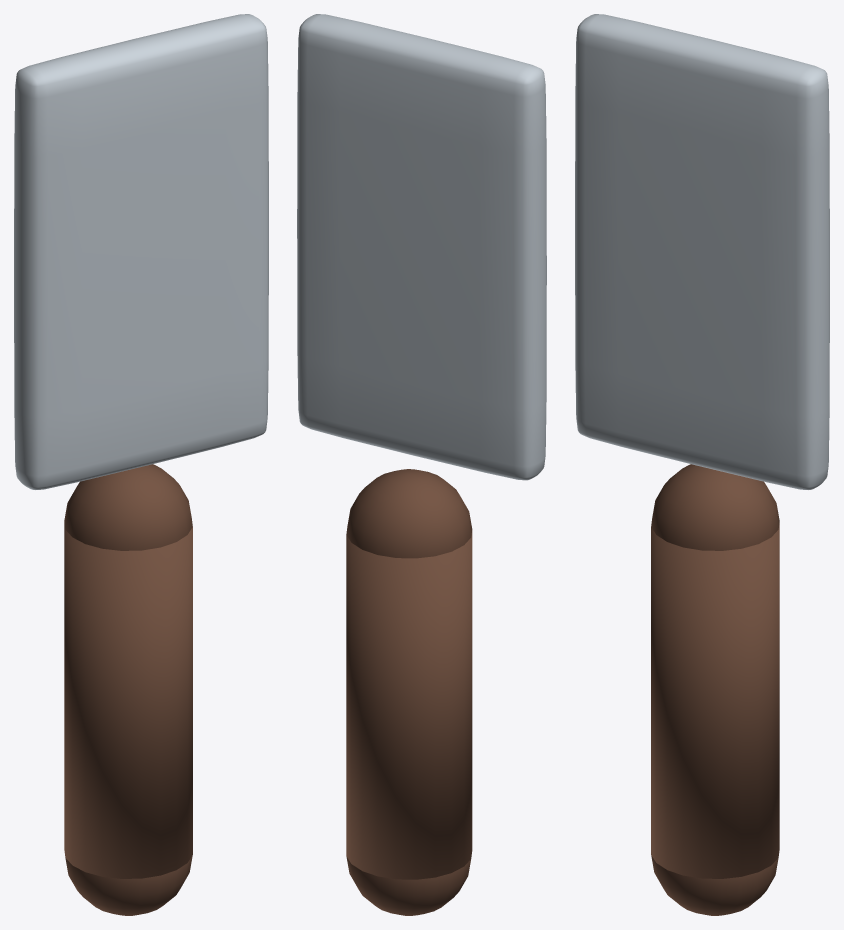
Rendered from tool_trowel.glb.
The picture shows the model from 3 angles, left to right: view 1: azimuth 30°, elevation 25°; view 2: azimuth 150°, elevation 25°; view 3: azimuth 330°, elevation 25°; orthographic projection. The views are drawn at different scales.
Visible parts, largest first — view 1: blade, grip, grip_b, grip_a; view 2: blade, grip, grip_b, grip_a; view 3: blade, grip, grip_b, grip_a.
Boxes of the visible parts, left/top/right/bottom form: blade: left=14, top=14, right=268, bottom=489; grip: left=64, top=523, right=192, bottom=878; grip_b: left=64, top=464, right=192, bottom=550; grip_a: left=65, top=855, right=192, bottom=915; blade: left=297, top=14, right=546, bottom=480; grip: left=346, top=530, right=472, bottom=879; grip_b: left=346, top=469, right=472, bottom=558; grip_a: left=346, top=856, right=470, bottom=915; blade: left=575, top=14, right=829, bottom=489; grip: left=651, top=523, right=779, bottom=878; grip_b: left=651, top=464, right=779, bottom=550; grip_a: left=651, top=855, right=778, bottom=915.
Size of the model in its own units: 0.1098 by 0.3749 by 0.05.
